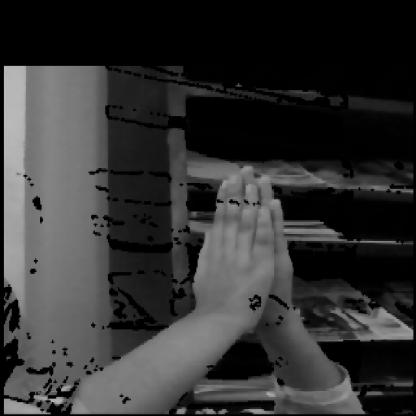namaste: (134, 158, 344, 366)
